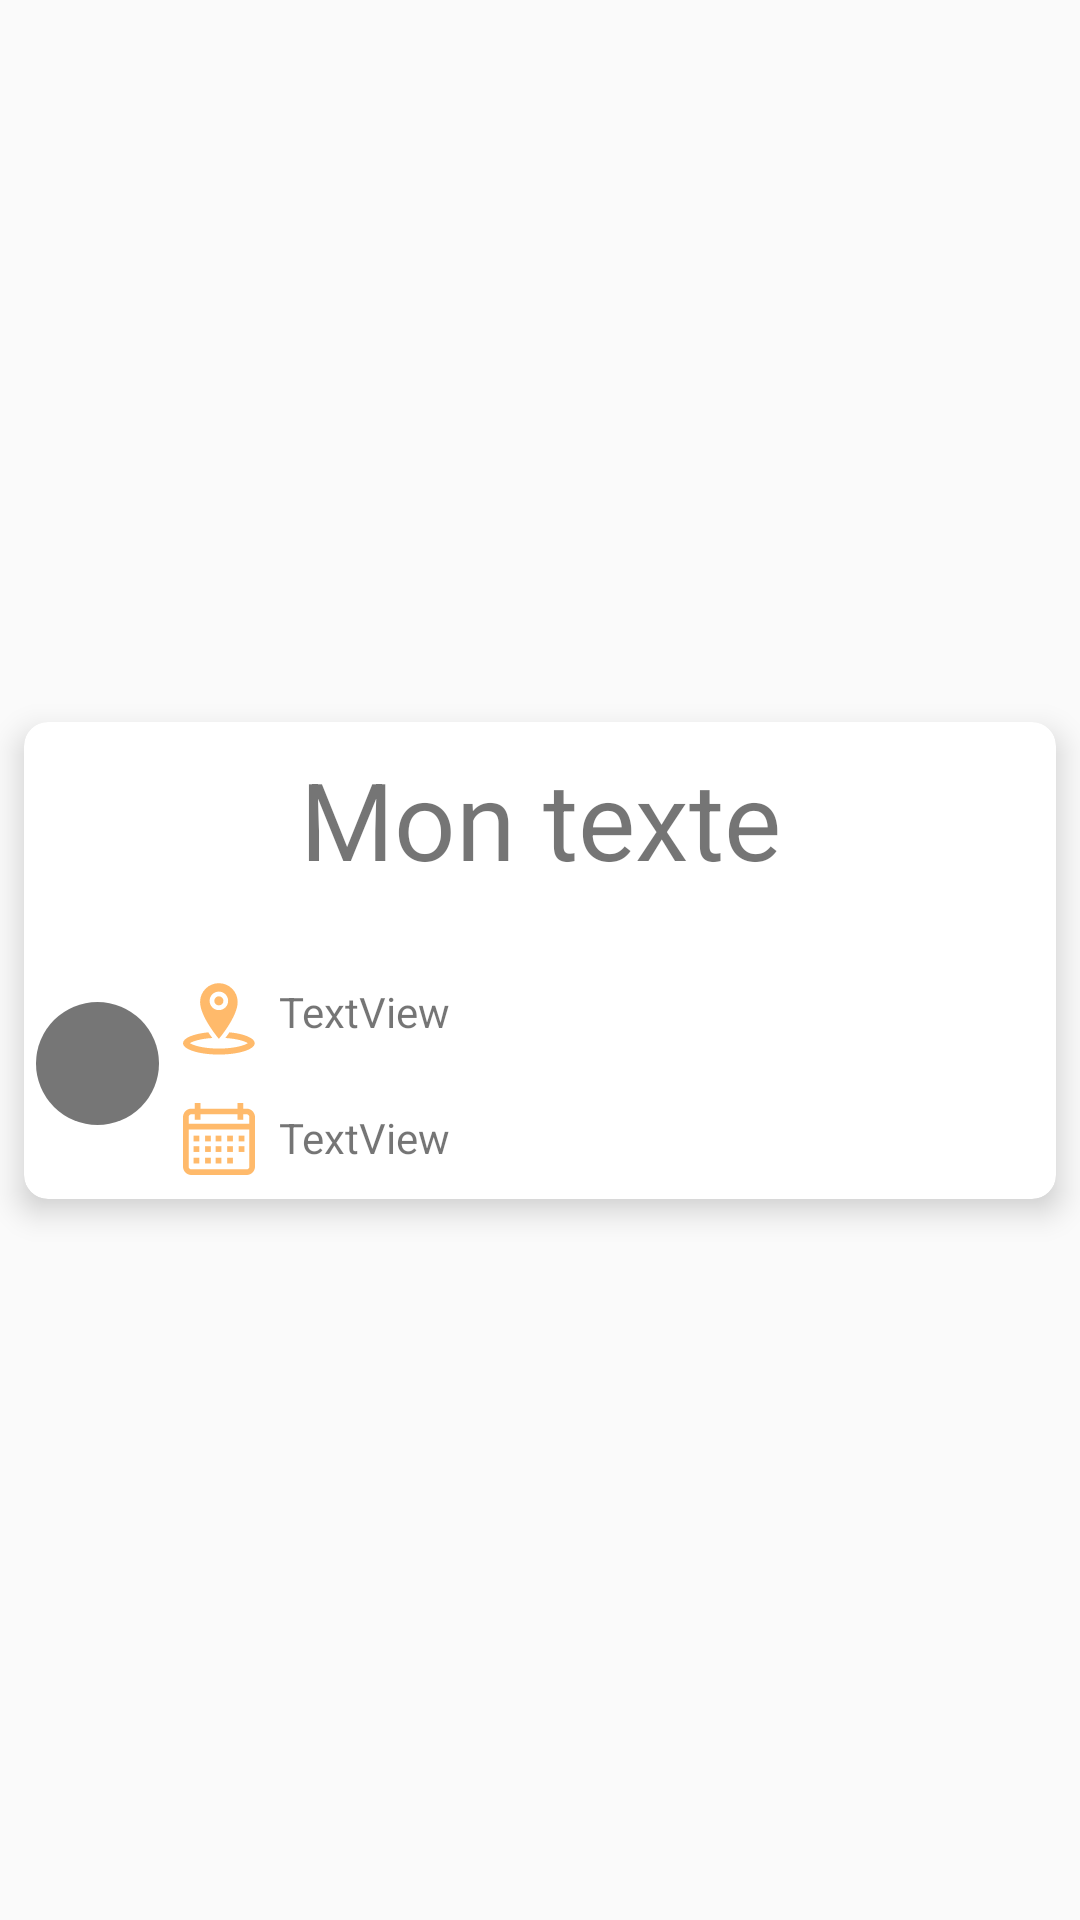

Screen size 1080px x 1920px. Icon name, then its center in pixels as (x,y):
calendar: (219,1139)
map pin marked: (219,1019)
